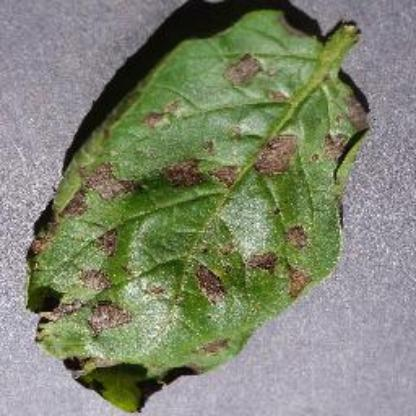Early-Blight: (23, 0, 416, 416)
